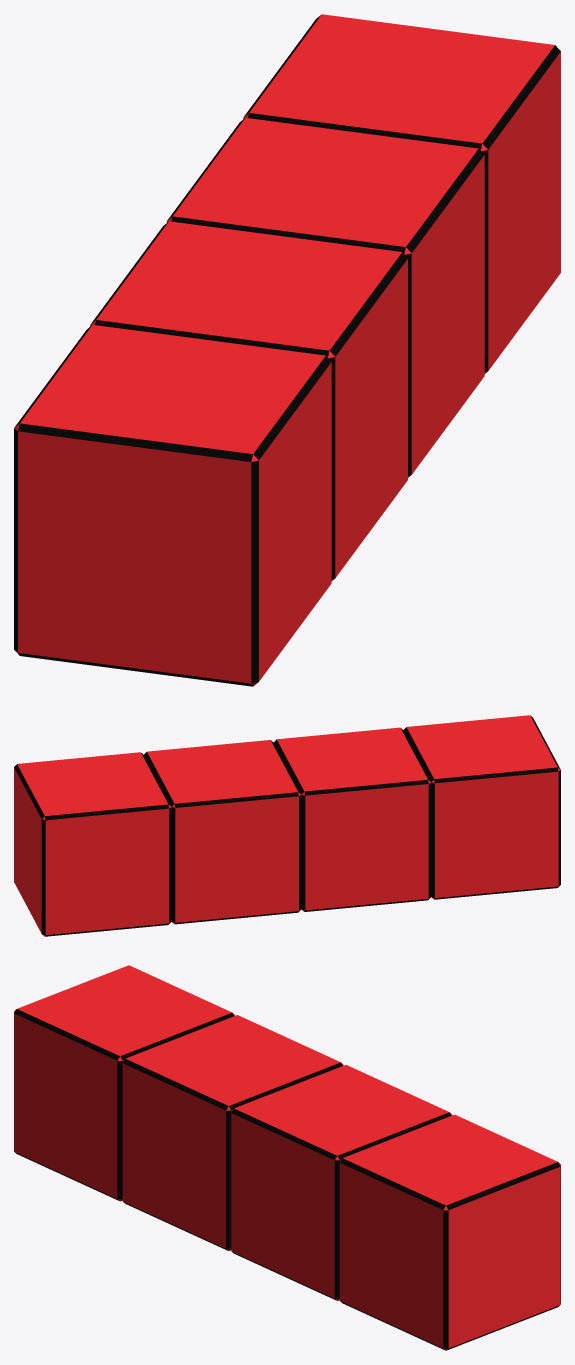
File: tetromino2.fbx
3 renders of one model, top to bottom at view 1: azimuth 30°, elevation 25°; view 2: azimuth 150°, elevation 25°; view 3: azimuth 270°, elevation 25°, orthographic. The views are drawn at different scales.
Visible parts, largest first — view 1: Cube.004; view 2: Cube.004; view 3: Cube.004.
Part boxes in pixels (<box>): Cube.004: <box>14,14,560,686</box>; Cube.004: <box>14,715,560,936</box>; Cube.004: <box>14,965,560,1350</box>.
Bounding box in the file's own units: 646 × 180 × 615.
